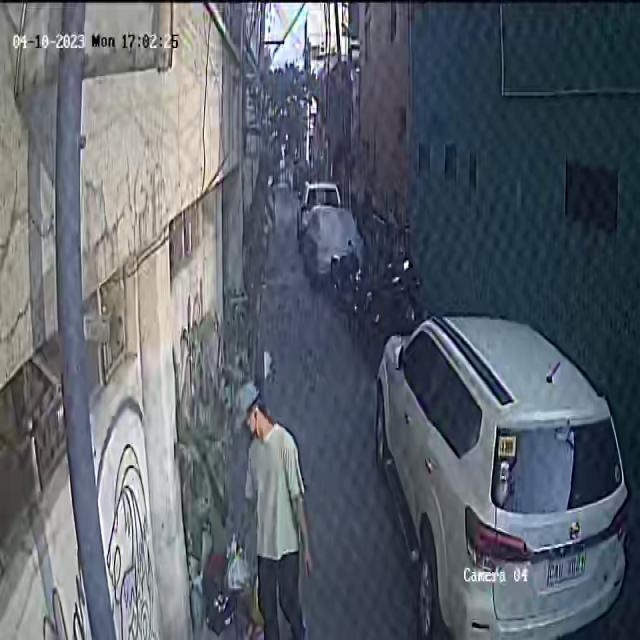garbage_dumping: (220, 535, 253, 598)
